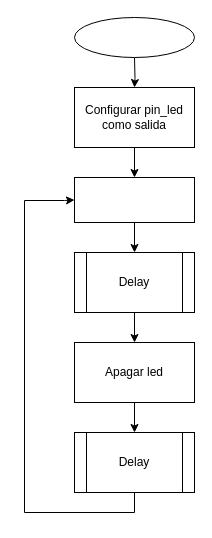
Image size: 212x538. Some labels were removed from this diagram. The shapes that lost their labels are listed below. From the top down, each one's centre as x and y in pixels, then its label:
[134,37]: Inicio
[134,199]: Encender led
